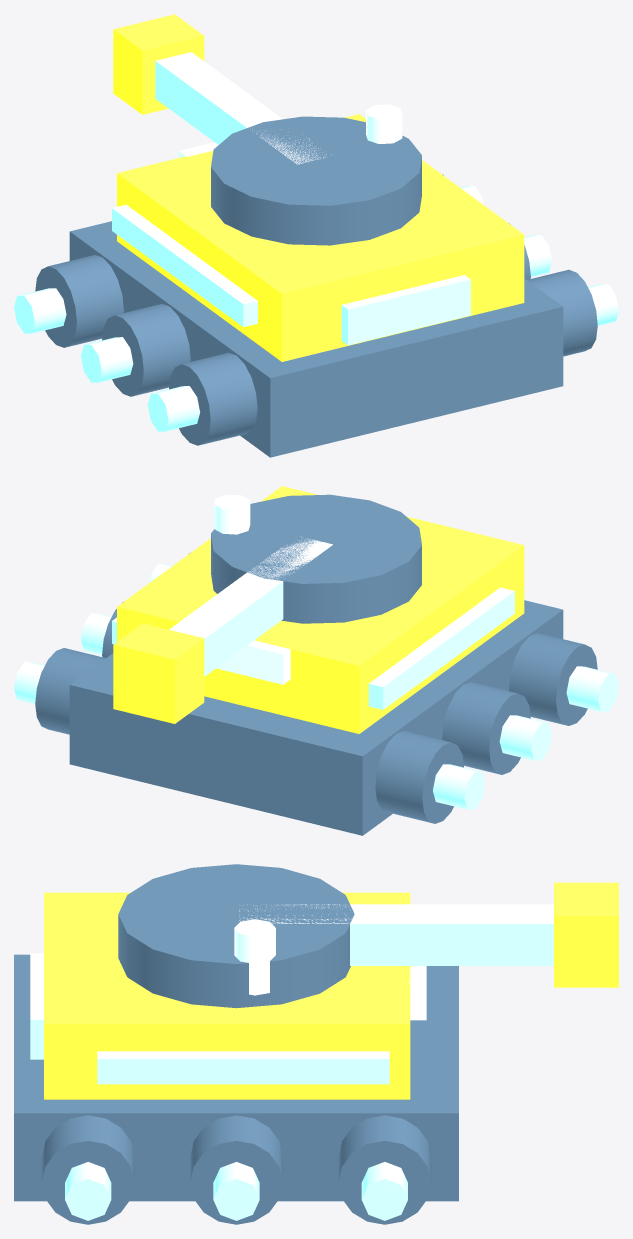
File: cyber-tank-high.glb
3 views of the same model, one above another, from view 1: azimuth 30°, elevation 25°; view 2: azimuth 150°, elevation 25°; view 3: azimuth 270°, elevation 25° (orthographic). The views are drawn at different scales.
Parts seen in each view (by area): view 1: LOWER_CHASSIS, ARMORED_BODY, TURRET_DOME, ENERGY_BARREL, WHEEL_-0.92_2, ENERGY_REAR, MUZZLE, LEFT_NEON_RAIL, WHEEL_-0.92_0, WHEEL_-0.92_1, WHEEL_0.92_2, HUB_-0.92_1 (+5 smaller); view 2: LOWER_CHASSIS, ARMORED_BODY, TURRET_DOME, MUZZLE, ENERGY_BARREL, WHEEL_-0.92_0, LEFT_NEON_RAIL, WHEEL_-0.92_1, WHEEL_-0.92_2, WHEEL_0.92_0, FRONT_SENSOR, HUB_-0.92_2 (+5 smaller); view 3: ARMORED_BODY, LOWER_CHASSIS, TURRET_DOME, ENERGY_BARREL, RIGHT_NEON_RAIL, MUZZLE, WHEEL_0.92_0, WHEEL_0.92_2, WHEEL_0.92_1, AIM_SENSOR, HUB_0.92_2, HUB_0.92_0 (+3 smaller).
Part boxes in pixels (left/top/right/bottom): LOWER_CHASSIS: left=69, top=221, right=563, bottom=457; ARMORED_BODY: left=117, top=114, right=524, bottom=361; TURRET_DOME: left=211, top=116, right=421, bottom=245; ENERGY_BARREL: left=155, top=52, right=331, bottom=164; WHEEL_-0.92_2: left=169, top=352, right=257, bottom=445; ENERGY_REAR: left=341, top=275, right=470, bottom=345; MUZZLE: left=113, top=14, right=204, bottom=114; LEFT_NEON_RAIL: left=112, top=204, right=257, bottom=326; WHEEL_-0.92_0: left=35, top=255, right=123, bottom=347; WHEEL_-0.92_1: left=102, top=304, right=190, bottom=396; WHEEL_0.92_2: left=527, top=269, right=597, bottom=356; HUB_-0.92_1: left=81, top=337, right=133, bottom=382; LOWER_CHASSIS: left=69, top=600, right=563, bottom=835; ARMORED_BODY: left=117, top=486, right=524, bottom=733; TURRET_DOME: left=211, top=494, right=421, bottom=623; MUZZLE: left=113, top=623, right=204, bottom=723; ENERGY_BARREL: left=169, top=536, right=332, bottom=676; WHEEL_-0.92_0: left=375, top=731, right=463, bottom=823; LEFT_NEON_RAIL: left=368, top=587, right=514, bottom=709; WHEEL_-0.92_1: left=442, top=682, right=530, bottom=774; WHEEL_-0.92_2: left=509, top=633, right=597, bottom=725; WHEEL_0.92_0: left=35, top=648, right=105, bottom=734; FRONT_SENSOR: left=216, top=640, right=290, bottom=684; HUB_-0.92_2: left=566, top=666, right=618, bottom=711; ARMORED_BODY: left=44, top=892, right=410, bottom=1099; LOWER_CHASSIS: left=14, top=954, right=458, bottom=1201; TURRET_DOME: left=118, top=864, right=354, bottom=1008; ENERGY_BARREL: left=239, top=904, right=553, bottom=965; RIGHT_NEON_RAIL: left=97, top=1051, right=389, bottom=1084; MUZZLE: left=554, top=882, right=618, bottom=987; WHEEL_0.92_0: left=338, top=1115, right=431, bottom=1224; WHEEL_0.92_2: left=41, top=1115, right=134, bottom=1224; WHEEL_0.92_1: left=190, top=1115, right=282, bottom=1224; AIM_SENSOR: left=234, top=919, right=275, bottom=995; HUB_0.92_2: left=65, top=1162, right=111, bottom=1220; HUB_0.92_0: left=361, top=1162, right=407, bottom=1220.
Bounding box in the file's own units: 2.49 × 1.12 × 2.61.
